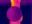Hotspot: (11, 0, 14, 5)
